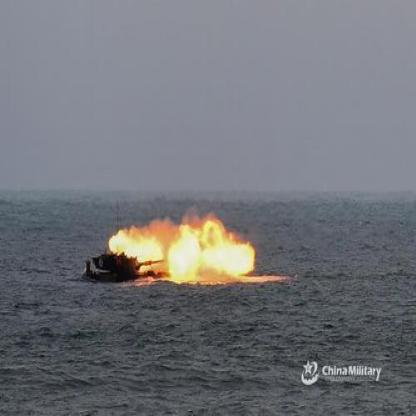fire: (107, 211, 259, 285)
